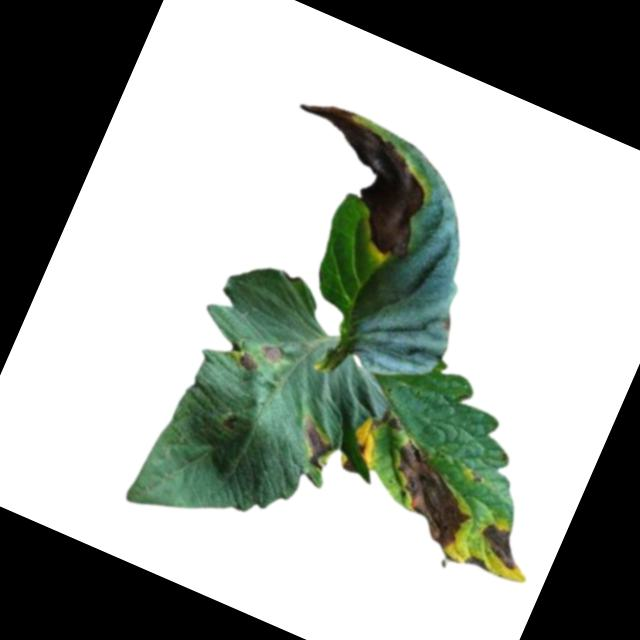Early_blight: (256, 92, 454, 268), (369, 435, 489, 555), (471, 521, 530, 574), (288, 416, 340, 470), (346, 418, 388, 470), (257, 340, 286, 366), (462, 552, 491, 576), (234, 353, 258, 374)
